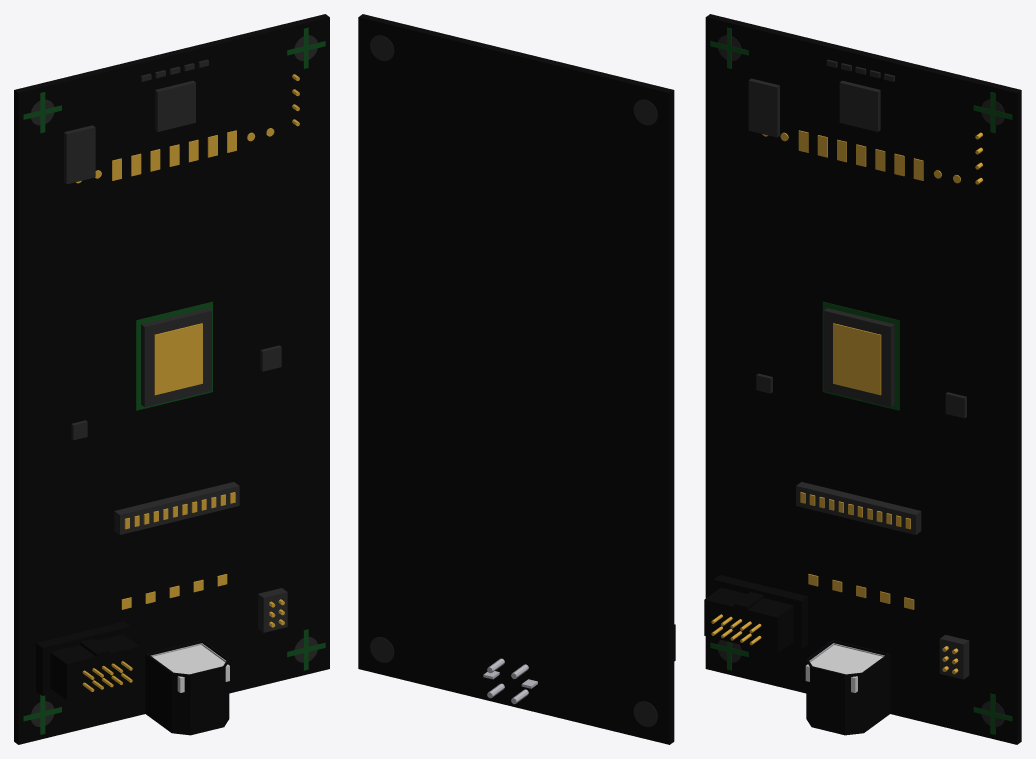
The model's file is tester_board.obj.
3 views of the same model, side by side, from view 1: azimuth 30°, elevation 25°; view 2: azimuth 150°, elevation 25°; view 3: azimuth 330°, elevation 25° (orthographic).
Parts seen in each view (by area): view 1: PCB_Board, TypeB_Shell, IDC_Body, Socket_Base, Socket_Inner, Connector_Long, IDC_Cap, MCU_Chip, Header_TopLeft, TypeB_Insulator, Socket_Silk, Header_BR_Base; view 2: PCB_Board; view 3: PCB_Board, TypeB_Shell, IDC_Body, Socket_Base, Socket_Inner, Connector_Long, IDC_Cap, MCU_Chip, Header_TopLeft, TypeB_Insulator, Socket_Silk, Header_BR_Base.
Boxes of the visible parts, <box> form: PCB_Board: <box>14,14,329,744</box>; TypeB_Shell: <box>145,640,229,735</box>; IDC_Body: <box>50,634,139,700</box>; Socket_Base: <box>141,308,211,407</box>; Socket_Inner: <box>154,323,202,395</box>; Connector_Long: <box>114,482,239,534</box>; IDC_Cap: <box>36,621,130,695</box>; MCU_Chip: <box>155,80,195,131</box>; Header_TopLeft: <box>64,125,95,184</box>; TypeB_Insulator: <box>152,645,229,692</box>; Socket_Silk: <box>136,301,212,410</box>; Header_BR_Base: <box>258,588,287,632</box>; PCB_Board: <box>358,14,674,744</box>; PCB_Board: <box>705,14,1021,744</box>; TypeB_Shell: <box>806,640,890,735</box>; IDC_Body: <box>704,587,793,653</box>; Socket_Base: <box>823,308,894,407</box>; Socket_Inner: <box>833,323,881,395</box>; Connector_Long: <box>796,482,921,534</box>; IDC_Cap: <box>713,575,807,649</box>; MCU_Chip: <box>839,80,880,131</box>; Header_TopLeft: <box>748,78,779,137</box>; TypeB_Insulator: <box>805,645,882,692</box>; Socket_Silk: <box>822,301,899,410</box>; Header_BR_Base: <box>939,635,969,679</box>.
Size of the model in its own units: 0.065 by 0.13 by 0.0182.
